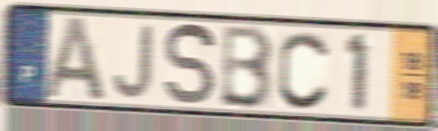1: (342, 31, 372, 115)
A: (41, 14, 109, 103)
B: (217, 23, 276, 112)
C: (276, 28, 333, 113)
J: (111, 23, 155, 102)
S: (163, 20, 219, 109)
